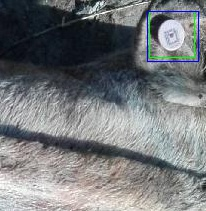text: (149, 11, 194, 57)
